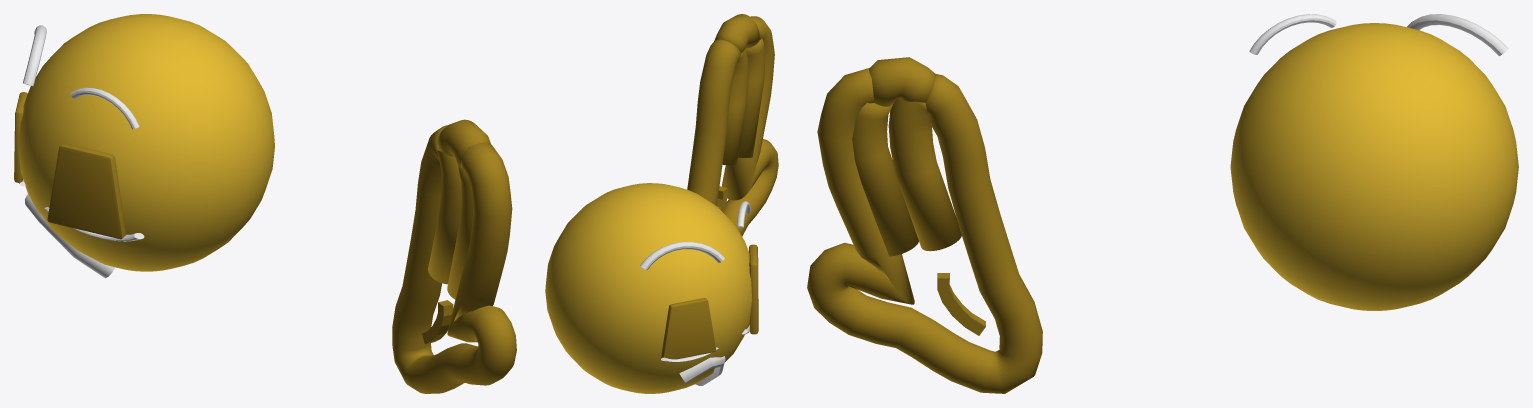
The model's file is Nial.fbx.
3 views of the same model, side by side, from view 1: azimuth 30°, elevation 25°; view 2: azimuth 150°, elevation 25°; view 3: azimuth 270°, elevation 25° (orthographic). The views are drawn at different scales.
Visible parts, largest first — view 1: Sphere.014, Cube.001; view 2: Sphere.014, Cube.001; view 3: Sphere.014, Cube.001.
Part boxes in pixels (x1=…): Sphere.014: x1=14, y1=14, x2=274, y2=278; Cube.001: x1=392, y1=119, x2=516, y2=393; Sphere.014: x1=545, y1=183, x2=758, y2=393; Cube.001: x1=687, y1=14, x2=778, y2=236; Sphere.014: x1=1230, y1=14, x2=1518, y2=310; Cube.001: x1=807, y1=57, x2=1042, y2=393.
Size of the model in its own units: 214 by 255 by 494.
